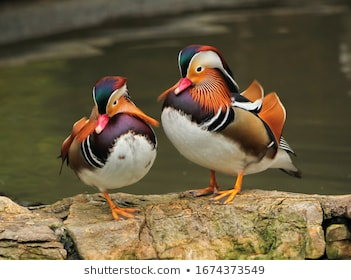duck: (143, 27, 318, 221), (31, 64, 165, 232)
